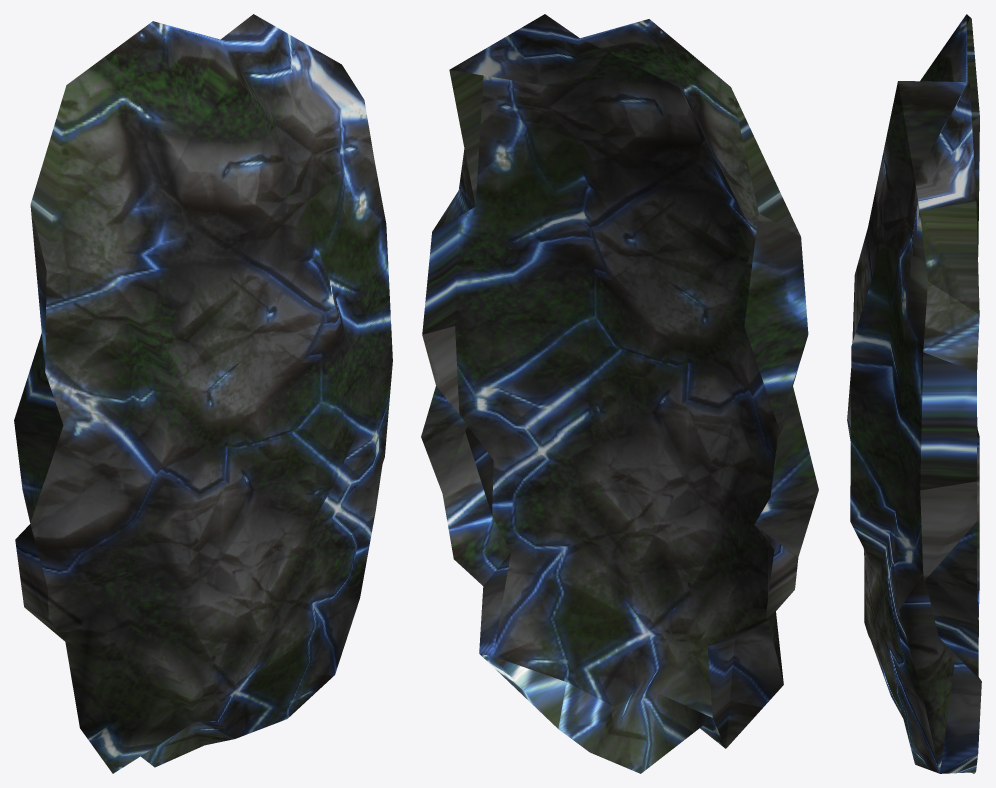
The model's file is boulder_4_moss.FBX.
3 renders of one model, left to right at view 1: azimuth 30°, elevation 25°; view 2: azimuth 150°, elevation 25°; view 3: azimuth 270°, elevation 25°, orthographic.
Visible parts, largest first — view 1: Box001; view 2: Box001; view 3: Box001.
Part boxes in pixels (box(x1,y1,x2,y2)): Box001: box(14, 14, 392, 773); Box001: box(421, 14, 818, 773); Box001: box(847, 14, 981, 773).
Bounding box in the file's own units: 578 × 1127 × 185.
